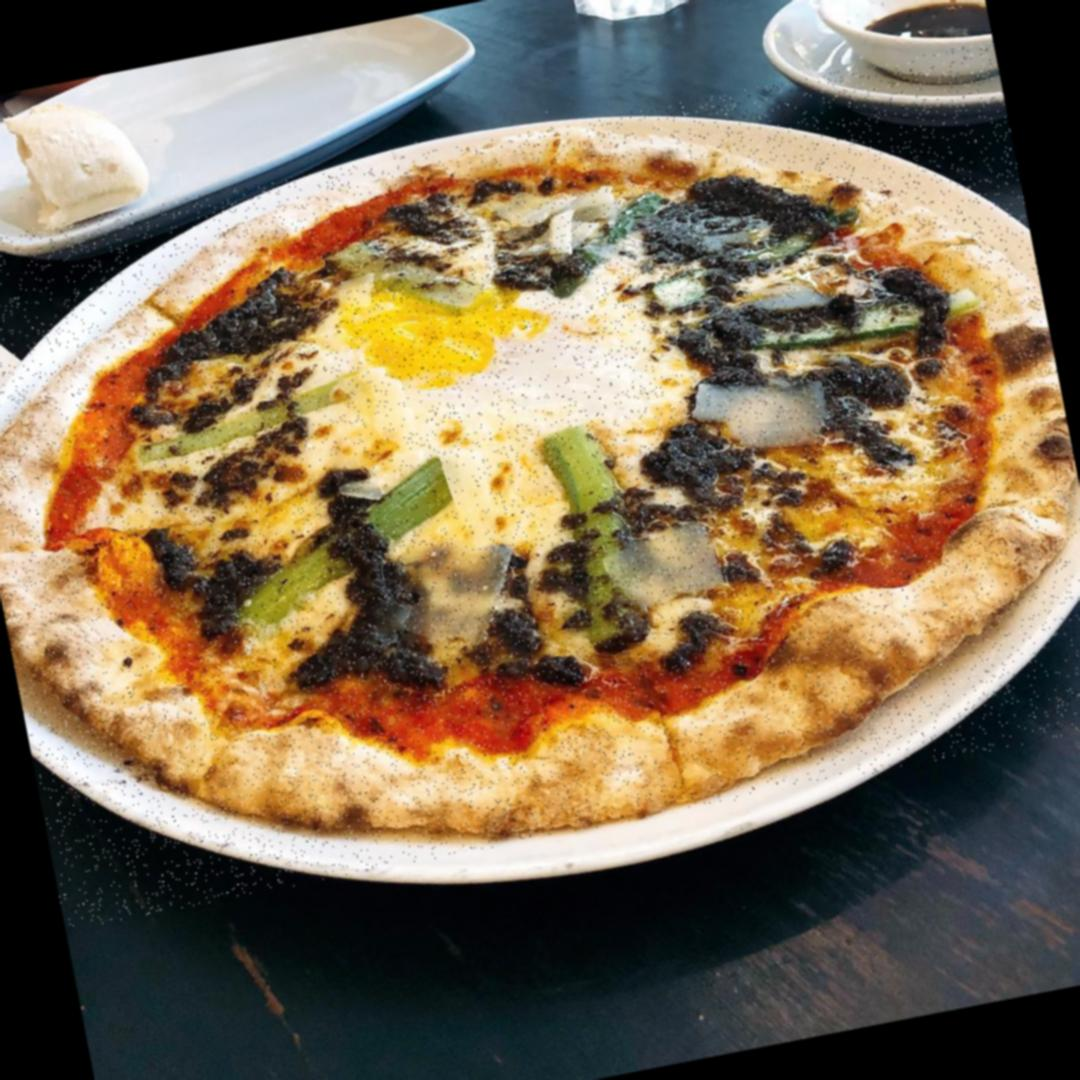Pizza: (0, 41, 1080, 930)
